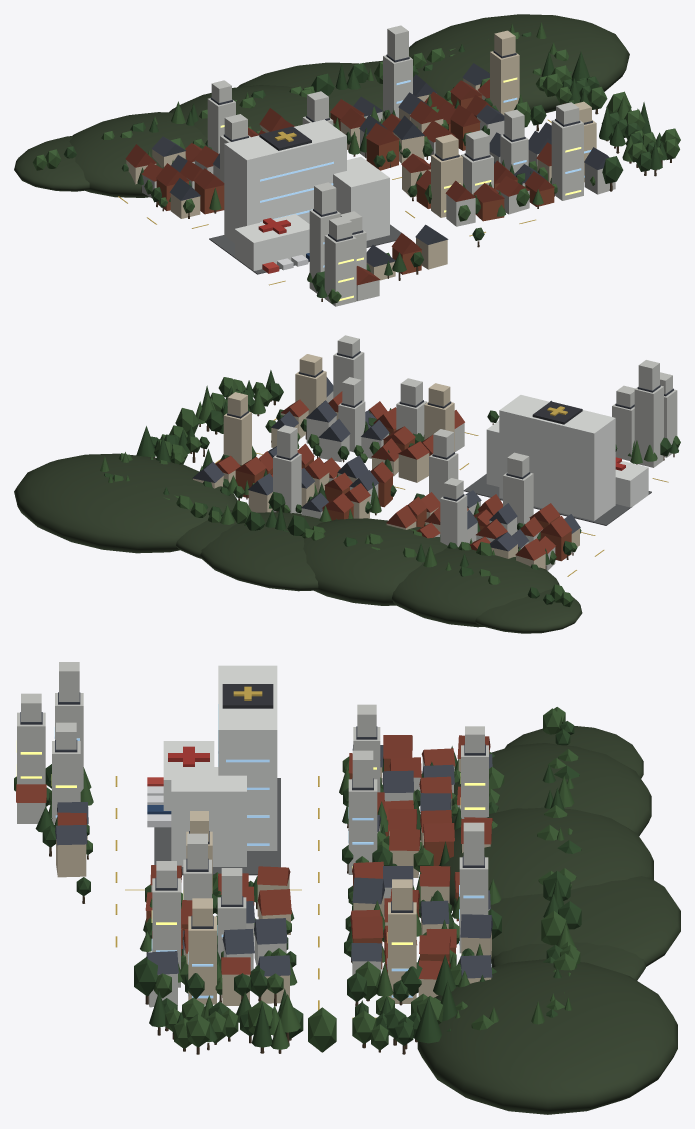
Rendered from maquette-ville-2.glb.
3 views of the same model, one above another, from view 1: azimuth 30°, elevation 25°; view 2: azimuth 150°, elevation 25°; view 3: azimuth 270°, elevation 25° (orthographic). The views are drawn at different scales.
Visible parts, largest first — view 1: hill_15, bloc_hospitalisation, hill_11, aile_consultations, hill_12, urgences, hill_13, hill_10, tower_shaft_105, tower_shaft_87, tower_shaft_101, tower_shaft_100 (+24 smaller); view 2: hill_15, bloc_hospitalisation, hill_12, hill_11, hill_13, hill_10, tower_shaft_86, tower_shaft_100, urgences, tower_shaft_101, tower_shaft_81, tower_shaft_80 (+21 smaller); view 3: hill_15, hill_12, hill_13, hill_11, bloc_hospitalisation, aile_consultations, hill_14, hill_10, tower_shaft_82, tower_shaft_101, tower_shaft_105, tower_shaft_106 (+32 smaller).
Part boxes in pixels (x1,y1,x2,y2): hill_15: [409, 14, 629, 112]; bloc_hospitalisation: [224, 119, 346, 243]; hill_11: [69, 112, 208, 197]; aile_consultations: [333, 157, 389, 240]; hill_12: [169, 85, 334, 137]; urgences: [234, 214, 309, 271]; hill_13: [237, 62, 385, 121]; hill_10: [14, 136, 89, 191]; tower_shaft_105: [551, 119, 583, 200]; tower_shaft_87: [324, 235, 356, 306]; tower_shaft_101: [490, 51, 519, 115]; tower_shaft_100: [383, 55, 412, 117]; hill_15: [14, 453, 236, 553]; bloc_hospitalisation: [499, 395, 615, 520]; hill_12: [303, 518, 447, 605]; hill_11: [392, 547, 559, 627]; hill_13: [200, 512, 322, 591]; hill_10: [475, 589, 582, 633]; tower_shaft_86: [634, 386, 663, 467]; tower_shaft_100: [273, 453, 301, 513]; urgences: [615, 461, 648, 507]; tower_shaft_101: [223, 411, 251, 465]; tower_shaft_81: [440, 494, 467, 547]; tower_shaft_80: [503, 472, 533, 530]; hill_15: [417, 959, 677, 1114]; hill_12: [439, 807, 653, 910]; hill_13: [490, 876, 680, 966]; hill_11: [451, 743, 651, 836]; bloc_hospitalisation: [218, 665, 277, 850]; aile_consultations: [171, 767, 246, 866]; hill_14: [492, 942, 645, 980]; hill_10: [505, 726, 643, 778]; tower_shaft_82: [348, 779, 377, 874]; tower_shaft_101: [388, 902, 416, 1003]; tower_shaft_105: [152, 878, 180, 987]; tower_shaft_106: [188, 916, 216, 1004].
Size of the model in its own units: 106 by 22.25 by 79.13.
